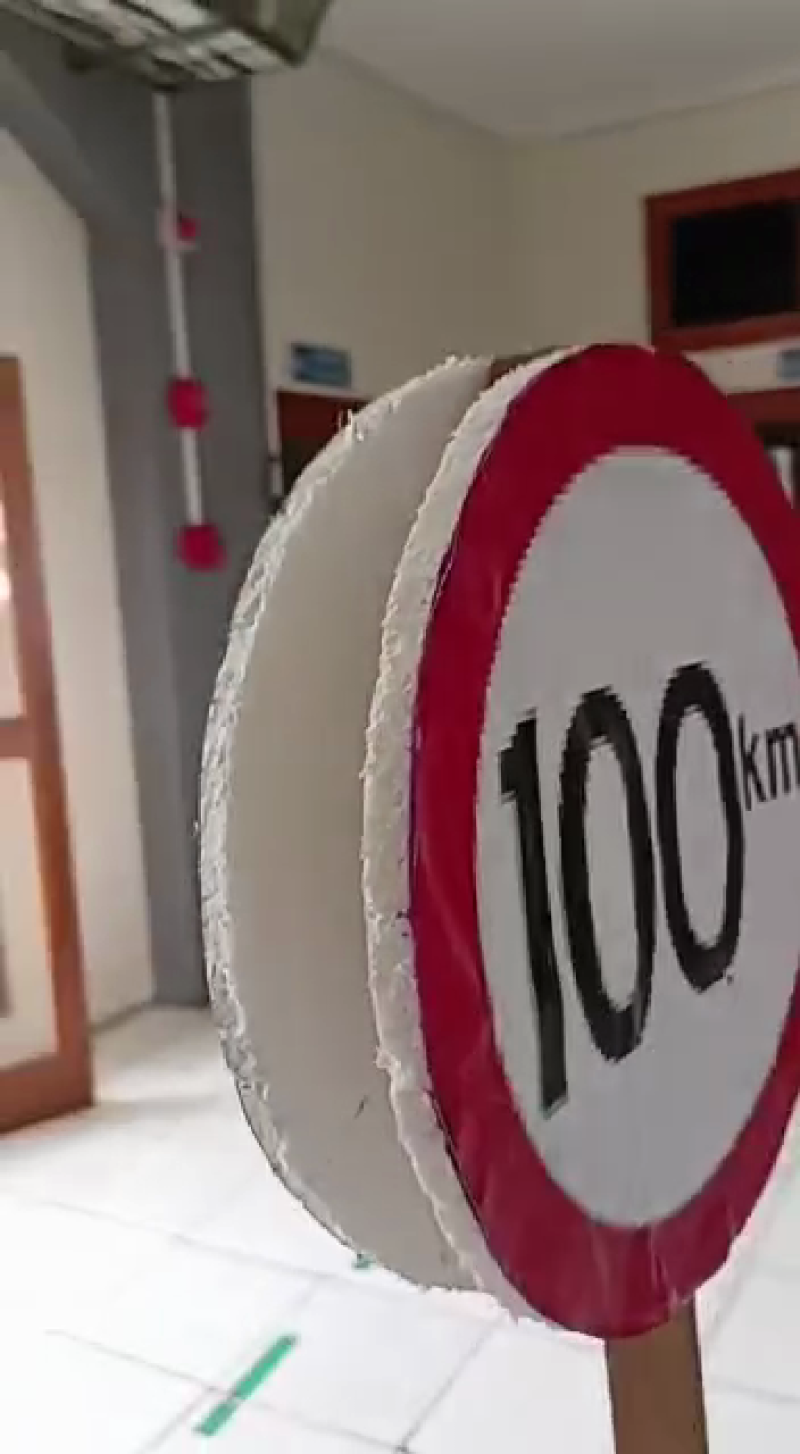batas maksimal 100kmperjam: (365, 312, 800, 1335)
